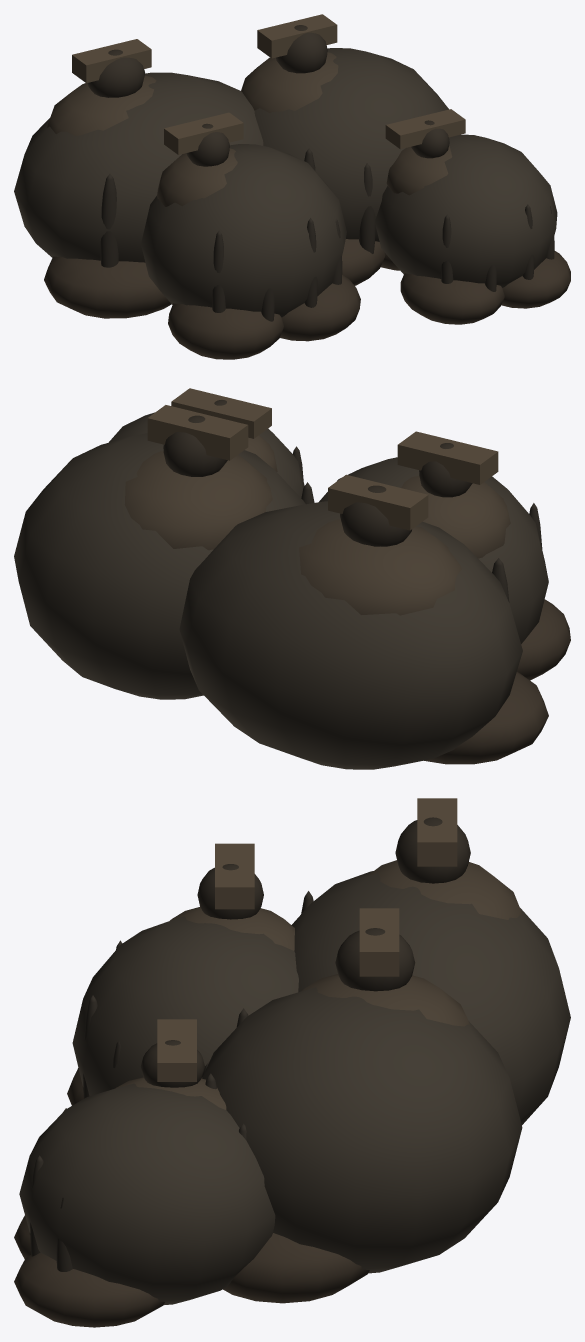
File: CMU3DDecorFloorTrashbags5.glb
The picture shows the model from 3 angles, top to bottom: view 1: azimuth 30°, elevation 25°; view 2: azimuth 150°, elevation 25°; view 3: azimuth 270°, elevation 25°; orthographic projection. The views are drawn at different scales.
Visible parts, largest first — view 1: slumped bag body (×4), rumpled lower bag (×6), gathered bag shoulder (×4), knotted bag tie (×4), cinched bag neck (×4), creased bag fold (×5); view 2: slumped bag body (×4), gathered bag shoulder (×4), knotted bag tie (×4), rumpled lower bag (×2), cinched bag neck (×3); view 3: slumped bag body (×4), rumpled lower bag (×2), knotted bag tie (×4), gathered bag shoulder (×4), cinched bag neck (×4).
Boxes of the visible parts, x1,y1,x2,y2 form: slumped bag body (×4): (14, 48, 557, 317); rumpled lower bag (×6): (44, 239, 570, 359); gathered bag shoulder (×4): (47, 52, 452, 206); knotted bag tie (×4): (72, 14, 465, 154); cinched bag neck (×4): (87, 25, 449, 166); creased bag fold (×5): (100, 163, 453, 312); slumped bag body (×4): (14, 412, 548, 769); gathered bag shoulder (×4): (124, 435, 510, 615); knotted bag tie (×4): (147, 388, 498, 530); rumpled lower bag (×2): (424, 599, 570, 764); cinched bag neck (×3): (163, 415, 472, 546); slumped bag body (×4): (19, 871, 570, 1305); rumpled lower bag (×2): (14, 1233, 369, 1327); knotted bag tie (×4): (157, 798, 457, 1081); gathered bag shoulder (×4): (116, 860, 522, 1109); cinched bag neck (×4): (140, 817, 470, 1087).
Size of the model in its own units: 0.725 by 0.3691 by 0.602.
